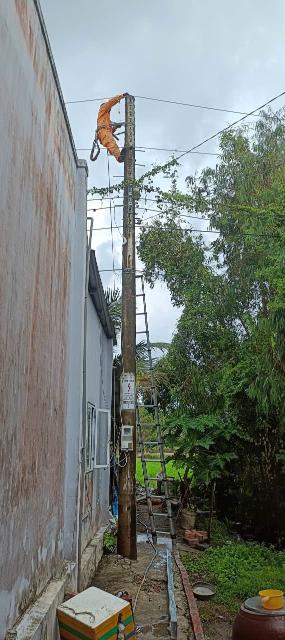gloves: (121, 89, 142, 113)
harness: (94, 120, 114, 139)
shoes: (120, 142, 128, 175)
